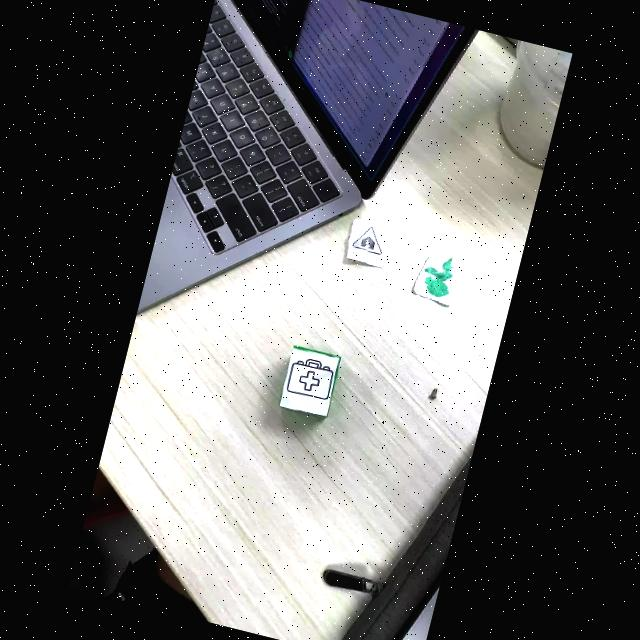Medkit: (280, 357, 332, 414)
